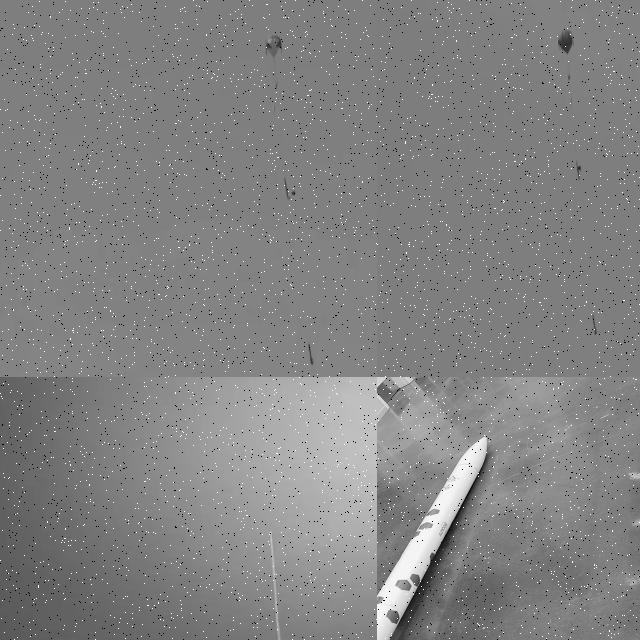Rocket: (377, 435, 488, 640), (308, 344, 314, 366), (593, 315, 597, 335), (270, 531, 272, 533)
